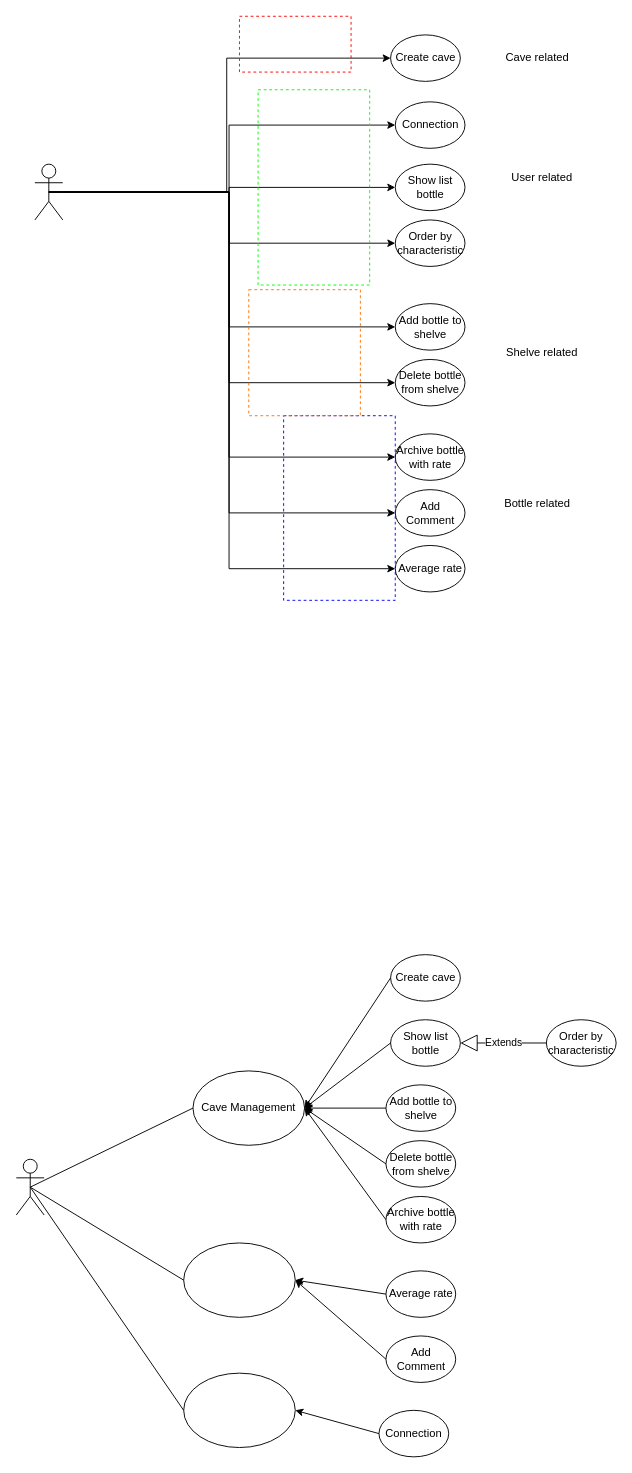
The diagram is 632 pixels wide and 1473 high, and some of its shapes have lost their labels. Here are the shapes that lost their labels. From the top down, the box of each, then its label:
(34, 163, 63, 220): user
(15, 1158, 44, 1215): Actor
(183, 1242, 295, 1317): Bottles
(183, 1372, 295, 1448): User Management
